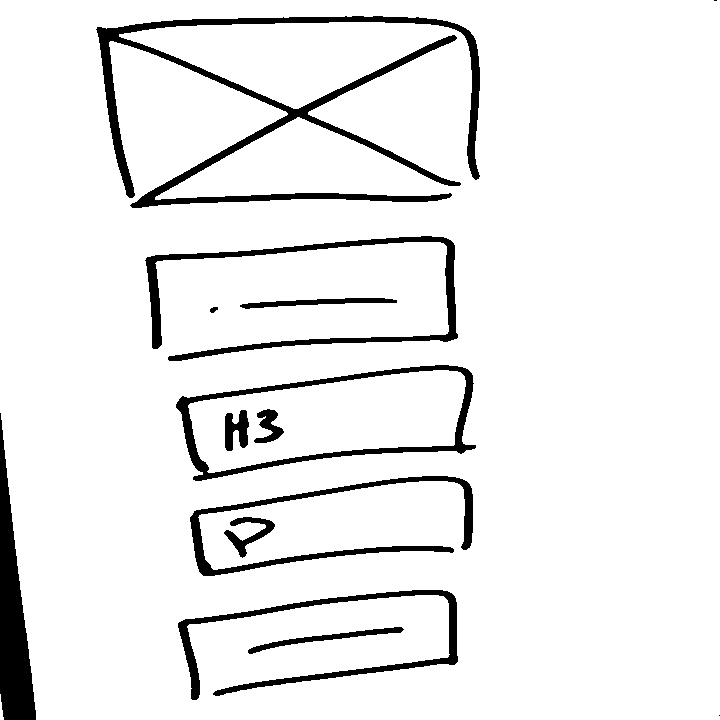button: (140, 233, 462, 362), (164, 586, 480, 705)
heading3: (169, 363, 497, 472)
paragraph: (180, 471, 483, 576)
picture: (87, 11, 512, 214)
